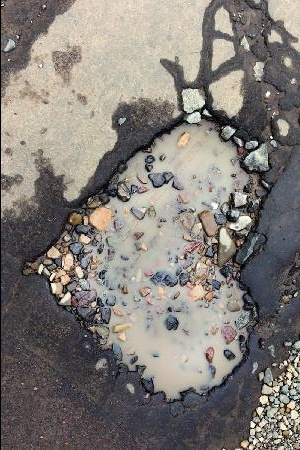pothole: (21, 106, 274, 406)
